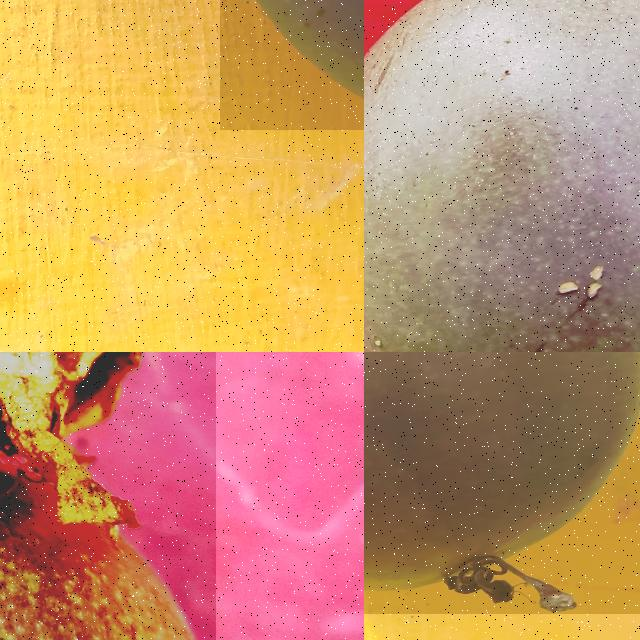Estado-2: (364, 0, 640, 352)
Estado-3: (364, 352, 640, 614)
